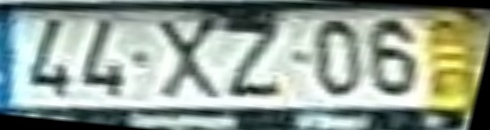0: (311, 17, 368, 100)
4: (75, 19, 132, 100), (26, 18, 75, 102)
6: (367, 16, 424, 100)
X: (152, 16, 224, 102)
Z: (226, 19, 286, 103)
